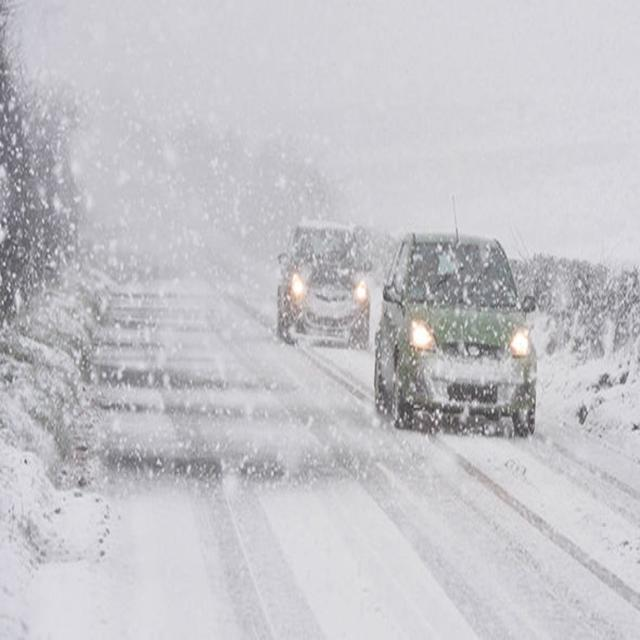car: (371, 229, 539, 440), (276, 226, 371, 347)
